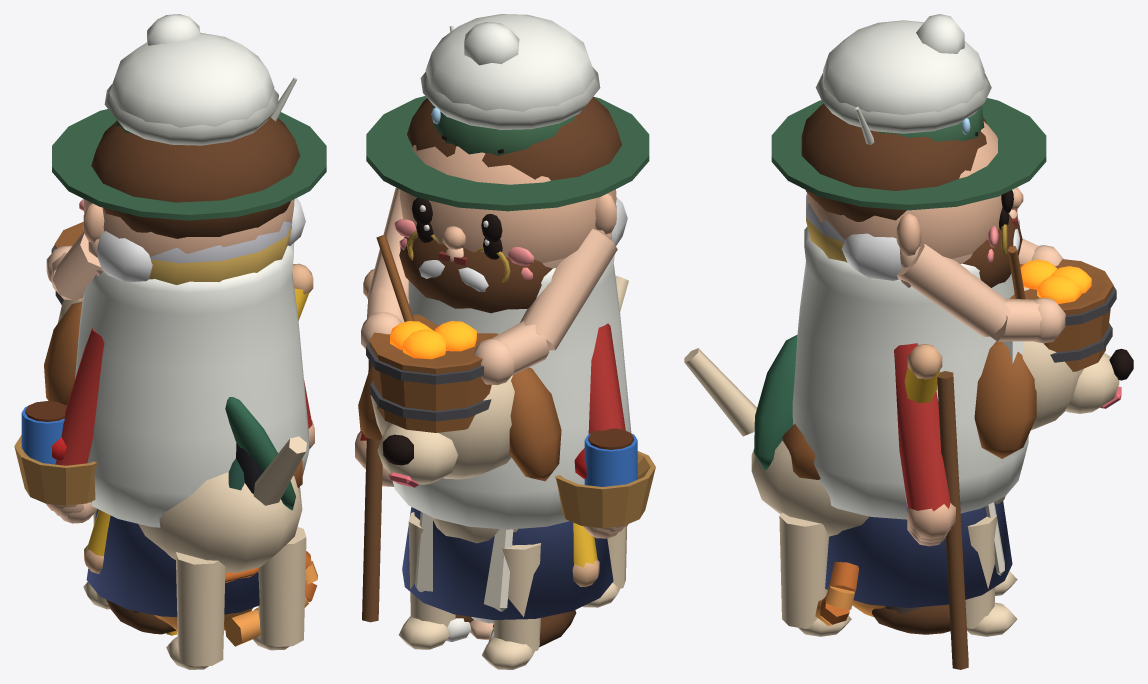
File: characters.glb
The picture shows the model from 3 angles, left to right: view 1: azimuth 30°, elevation 25°; view 2: azimuth 150°, elevation 25°; view 3: azimuth 270°, elevation 25°; orthographic projection. The views are drawn at different scales.
Visible parts, largest first — view 1: SaunaBody, Man, Dog, Grandpa, Grandma, Rooster, Woman, Cat, Kid; view 2: SaunaBody, Man, Dog, Grandpa, Grandma, Woman, Kid, Cat; view 3: SaunaBody, Man, Dog, Grandpa, Grandma, Rooster, Cat, Kid, Woman.
Boxes of the visible parts, bbox=[...] form: SaunaBody: bbox=[46, 14, 308, 527]; Man: bbox=[21, 117, 314, 634]; Dog: bbox=[44, 298, 306, 669]; Grandpa: bbox=[52, 77, 326, 518]; Grandma: bbox=[14, 221, 292, 616]; Rooster: bbox=[166, 397, 295, 635]; Woman: bbox=[149, 225, 291, 284]; Cat: bbox=[154, 551, 317, 646]; Kid: bbox=[84, 263, 313, 573]; SaunaBody: bbox=[361, 14, 631, 529]; Man: bbox=[355, 97, 637, 647]; Dog: bbox=[358, 275, 628, 669]; Grandpa: bbox=[362, 26, 649, 622]; Grandma: bbox=[382, 231, 655, 619]; Woman: bbox=[415, 512, 513, 611]; Kid: bbox=[363, 269, 599, 586]; Cat: bbox=[446, 617, 493, 642]; SaunaBody: bbox=[792, 14, 1116, 519]; Man: bbox=[801, 103, 1023, 634]; Dog: bbox=[684, 287, 1133, 636]; Grandpa: bbox=[771, 98, 1046, 669]; Grandma: bbox=[806, 193, 1012, 607]; Rooster: bbox=[754, 335, 797, 470]; Cat: bbox=[815, 561, 885, 625]; Kid: bbox=[904, 344, 942, 403]; Woman: bbox=[806, 217, 1004, 575].
Bounding box in the file's own units: 0.6401 × 1.27 × 0.8673.
